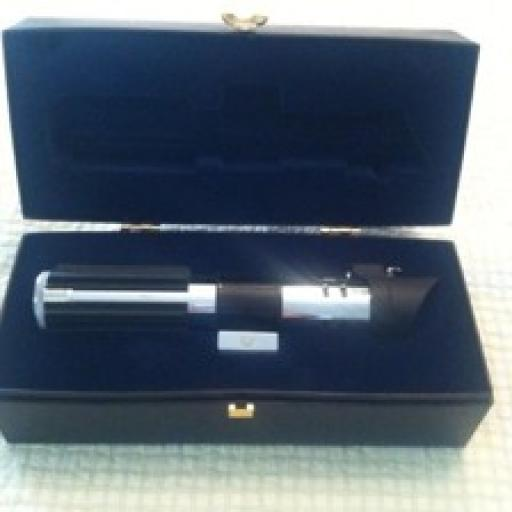lightsaber: (26, 256, 452, 356)
